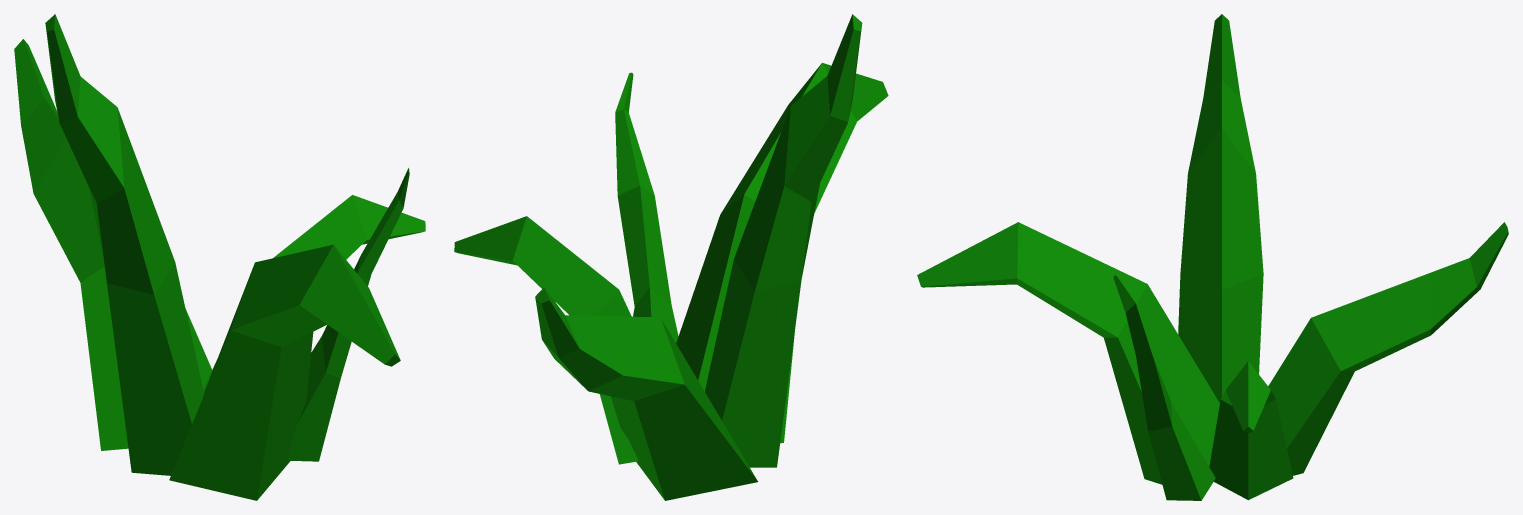
Rendered from herbe 2.fbx.
3 views of the same model, side by side, from view 1: azimuth 30°, elevation 25°; view 2: azimuth 150°, elevation 25°; view 3: azimuth 270°, elevation 25° (orthographic). The views are drawn at different scales.
Parts seen in each view (by area): view 1: Plane.004; view 2: Plane.004; view 3: Plane.004.
Part boxes in pixels (left/top/right/bottom): Plane.004: left=14, top=14, right=425, bottom=500; Plane.004: left=454, top=14, right=888, bottom=500; Plane.004: left=917, top=14, right=1508, bottom=500.
Size of the model in its own units: 819 by 973 by 1294.
